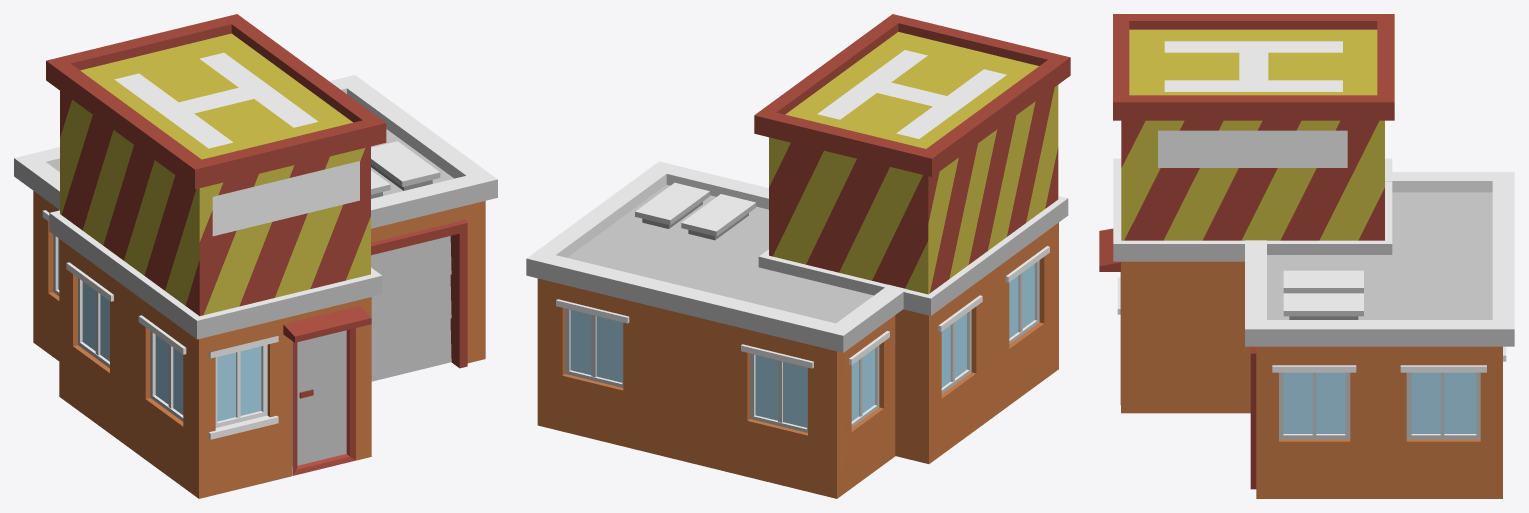
The model's file is house_purpose_006.glb.
3 views of the same model, side by side, from view 1: azimuth 30°, elevation 25°; view 2: azimuth 150°, elevation 25°; view 3: azimuth 270°, elevation 25° (orthographic). The views are drawn at different scales.
Visible parts, largest first — view 1: house_purpose_006; view 2: house_purpose_006; view 3: house_purpose_006.
Boxes of the visible parts, bbox=[...] form: house_purpose_006: bbox=[14, 14, 497, 498]; house_purpose_006: bbox=[526, 14, 1070, 498]; house_purpose_006: bbox=[1099, 14, 1514, 498].
Bounding box in the file's own units: 7.41 × 6.36 × 7.57.
Materials: 1 (1 with a texture image).
